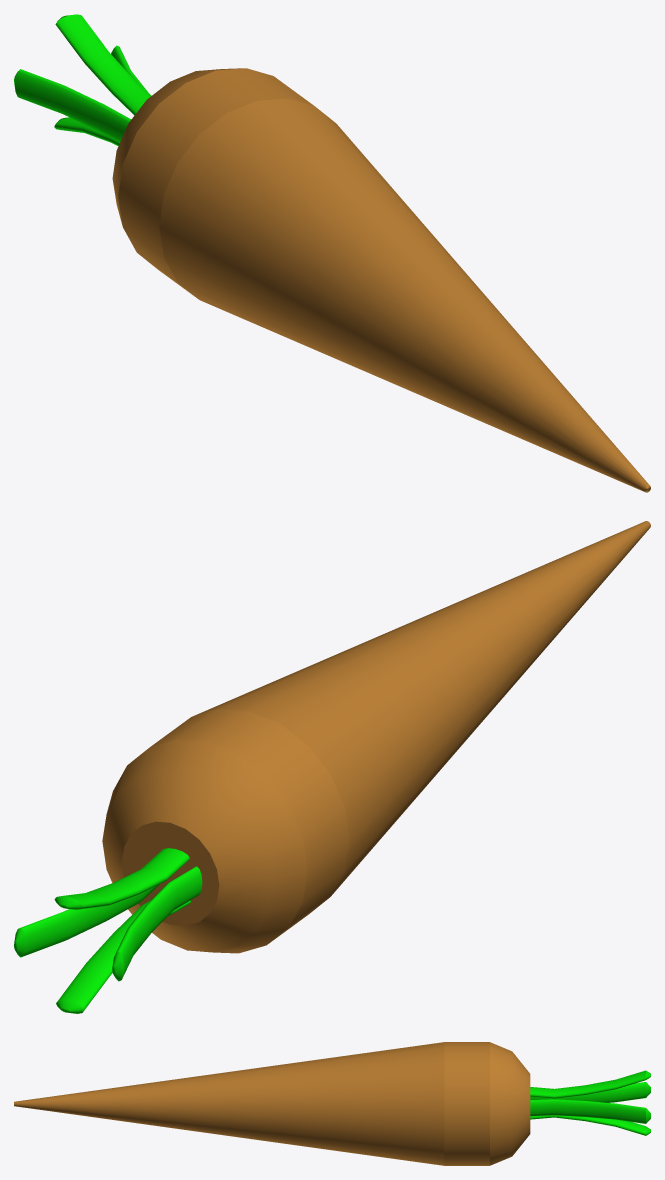
Rendered from Carrot.fbx.
3 renders of one model, top to bottom at view 1: azimuth 30°, elevation 25°; view 2: azimuth 150°, elevation 25°; view 3: azimuth 270°, elevation 25°, orthographic. The views are drawn at different scales.
Visible parts, largest first — view 1: polySurface24, polySurface26, polySurface27, polySurface25, polySurface28, polySurface37, polySurface29, polySurface30, polySurface31, polySurface23; view 2: polySurface37, polySurface25, polySurface24, polySurface26, polySurface27, polySurface28, polySurface29, polySurface30, polySurface31, polySurface23; view 3: polySurface37, polySurface24, polySurface25, polySurface26, polySurface27, polySurface28, polySurface29, polySurface30, polySurface31, polySurface23.
Part boxes in pixels (<box>): polySurface24: <box>159,98,374,323</box>; polySurface26: <box>220,146,413,347</box>; polySurface27: <box>280,195,453,371</box>; polySurface25: <box>118,68,313,298</box>; polySurface28: <box>341,243,492,395</box>; polySurface37: <box>14,14,241,225</box>; polySurface29: <box>401,291,531,419</box>; polySurface30: <box>462,340,570,443</box>; polySurface31: <box>522,388,609,467</box>; polySurface23: <box>583,436,650,492</box>; polySurface37: <box>14,739,307,1013</box>; polySurface25: <box>150,709,349,943</box>; polySurface24: <box>192,685,387,895</box>; polySurface26: <box>250,662,424,849</box>; polySurface27: <box>306,638,462,803</box>; polySurface28: <box>363,615,500,757</box>; polySurface29: <box>419,591,537,711</box>; polySurface30: <box>476,568,575,664</box>; polySurface31: <box>533,544,613,618</box>; polySurface23: <box>590,521,650,572</box>; polySurface37: <box>490,1042,650,1165</box>; polySurface24: <box>390,1042,444,1165</box>; polySurface25: <box>444,1042,489,1165</box>; polySurface26: <box>337,1049,390,1158</box>; polySurface27: <box>283,1057,336,1150</box>; polySurface28: <box>229,1064,282,1143</box>; polySurface29: <box>175,1072,229,1135</box>; polySurface30: <box>121,1079,175,1128</box>; polySurface31: <box>67,1087,121,1120</box>; polySurface23: <box>14,1094,67,1113</box>.
Size of the model in its own units: 9.81 by 9.81 by 50.05.
